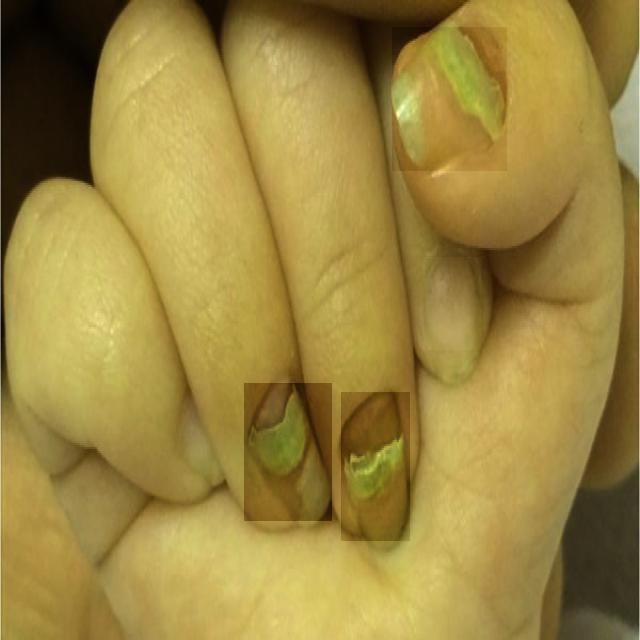diabetes: (393, 27, 507, 171), (244, 383, 332, 521), (342, 393, 410, 541)
sehat: (423, 258, 481, 350)
